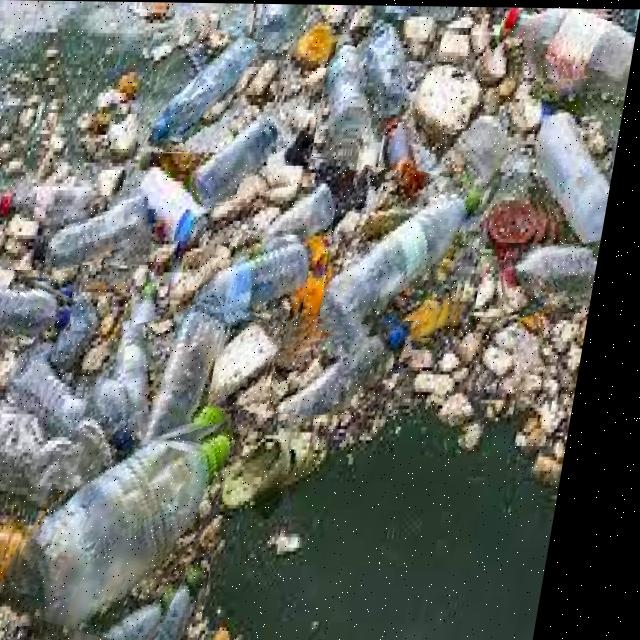plasticbottle: (22, 384, 254, 640), (327, 168, 494, 338), (530, 74, 631, 247), (125, 303, 247, 440), (139, 19, 257, 152), (280, 317, 435, 415), (204, 229, 324, 323), (187, 111, 302, 207), (495, 6, 640, 74), (54, 190, 166, 265), (0, 269, 88, 355), (316, 33, 376, 159), (505, 241, 608, 312)
thermocoal: (400, 60, 486, 141), (221, 322, 292, 410), (479, 315, 562, 384), (438, 385, 504, 463)
